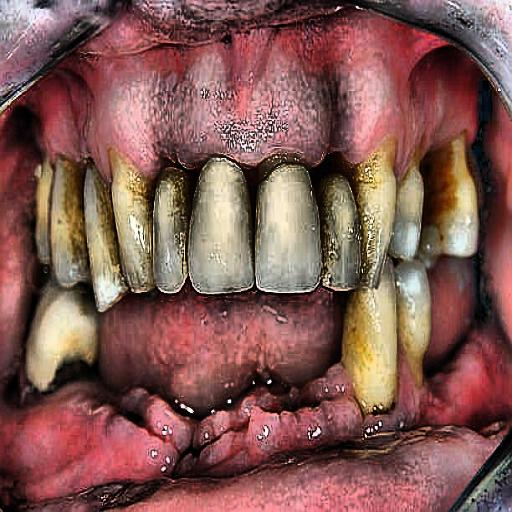Calculus: (2, 101, 487, 437)
